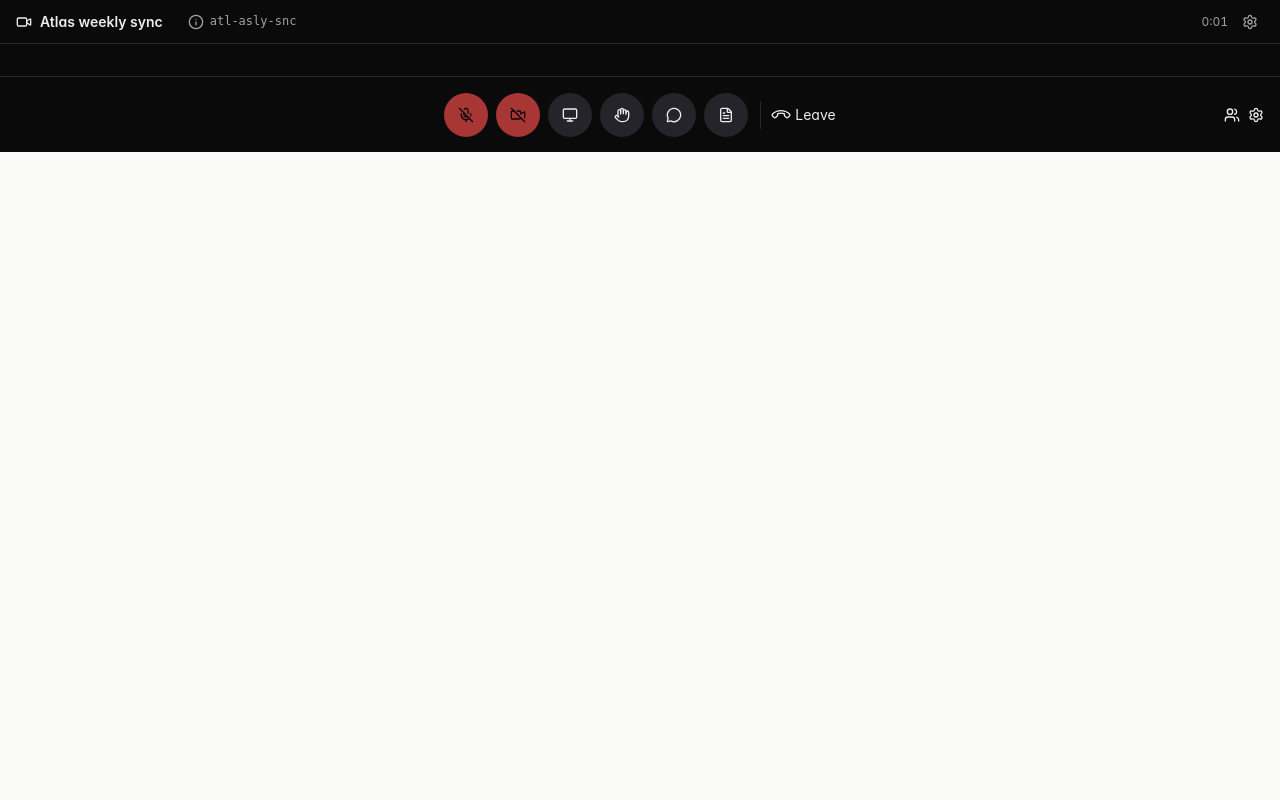
Test: MeetCall transcription › doesn't transcribe when the confirmation is cancelled
What coordinates should you click on to do the following:
click the button named "Start transcription"
I would click on:
 (726, 114)
Its box is [704,92,748,136].
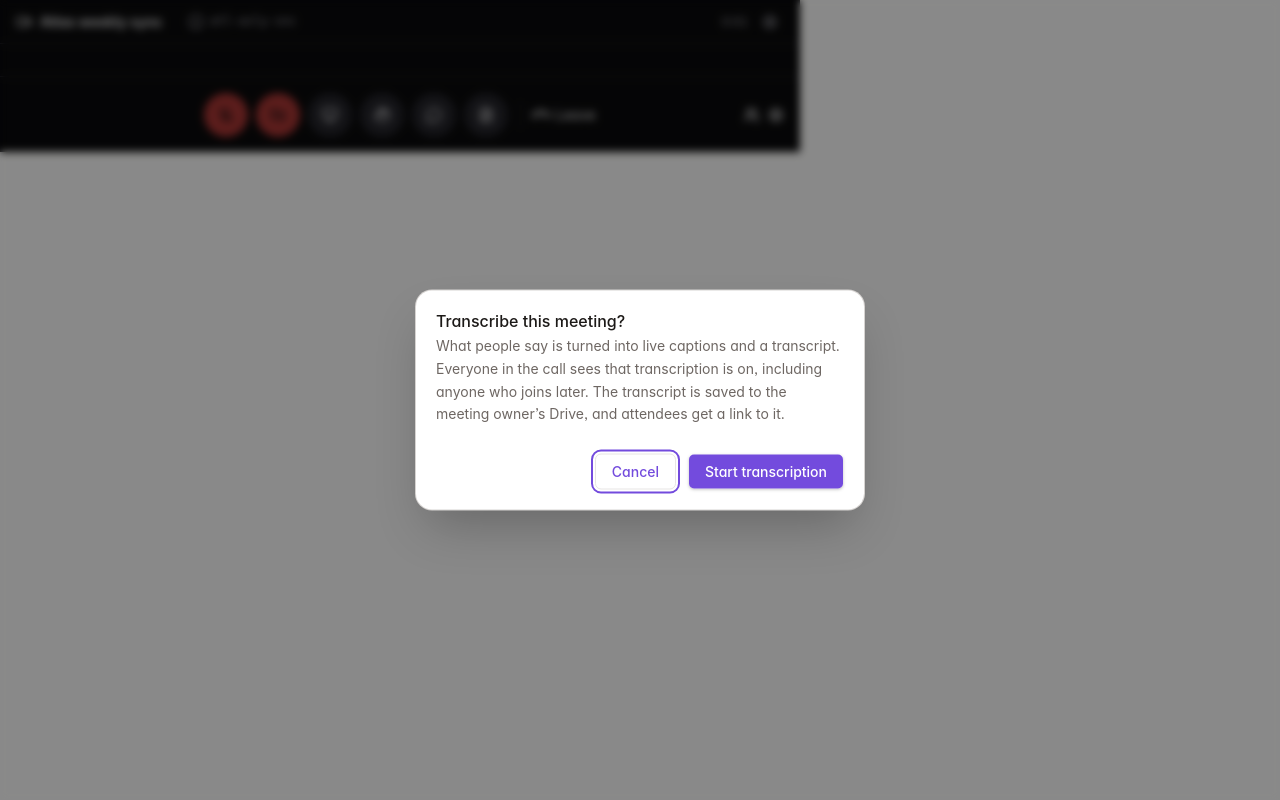
What coordinates should you click on to do the following:
click the button "Cancel"
I would click on:
 (635, 472)
Its box is [595,454,676,490].
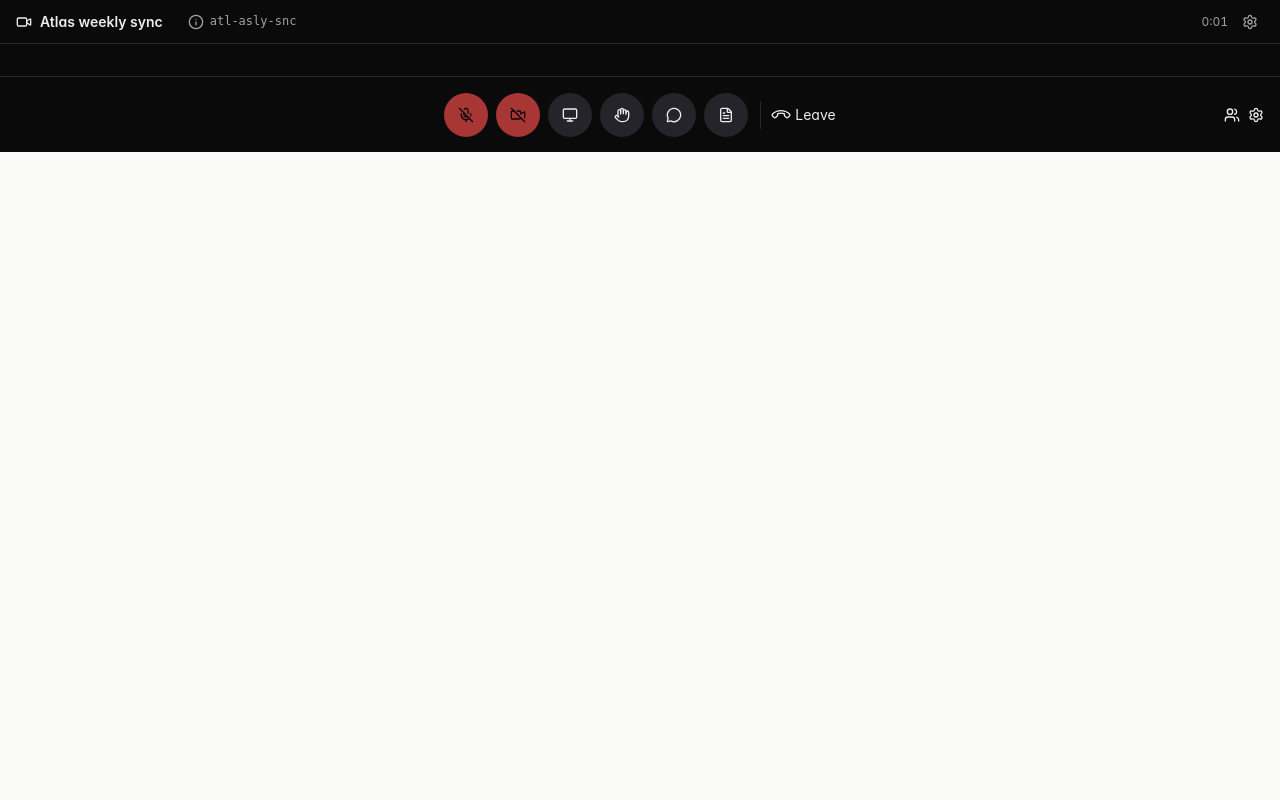
Expected: the dialog is gone
